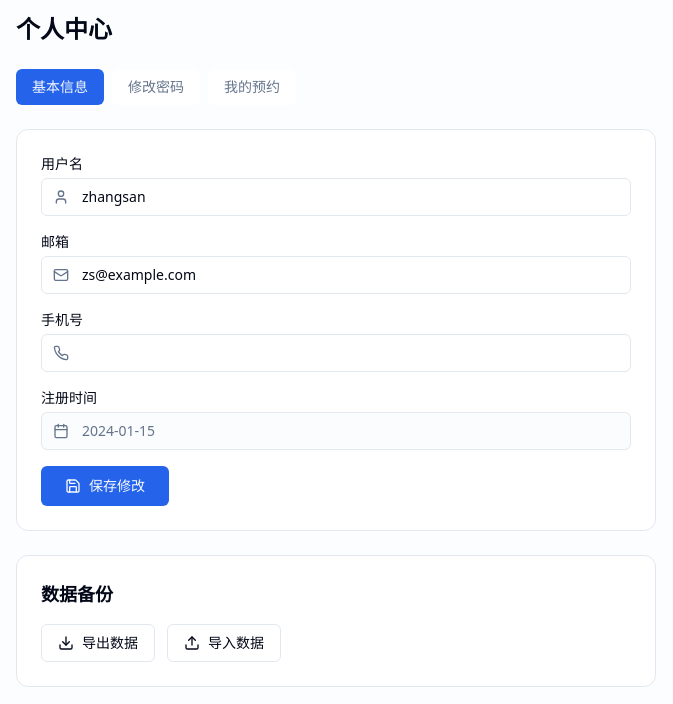
Test: Profile Page › shows empty state when no appointments
Click the button "我的预约". click: point(252, 87)
box: 208,69 -> 296,105
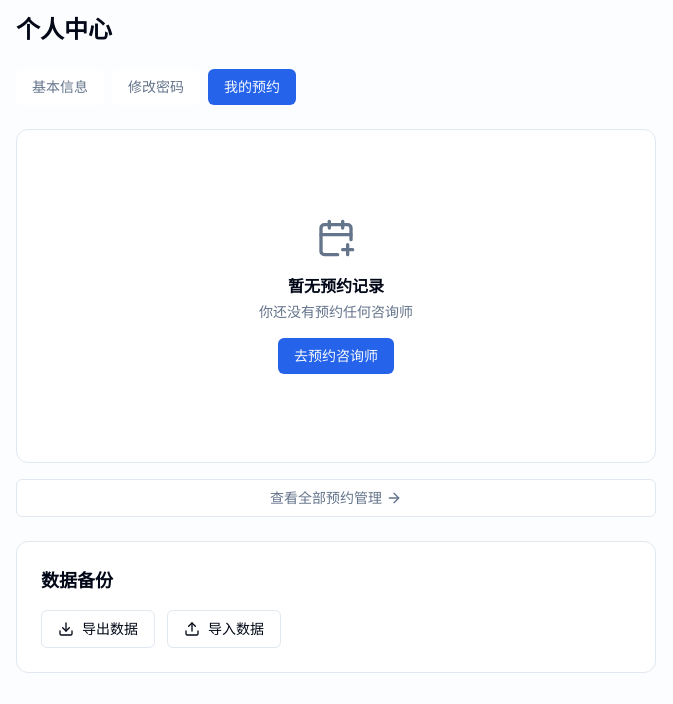
Check: the heading "暂无预约记录" is shown, box 288,274 -> 384,298
